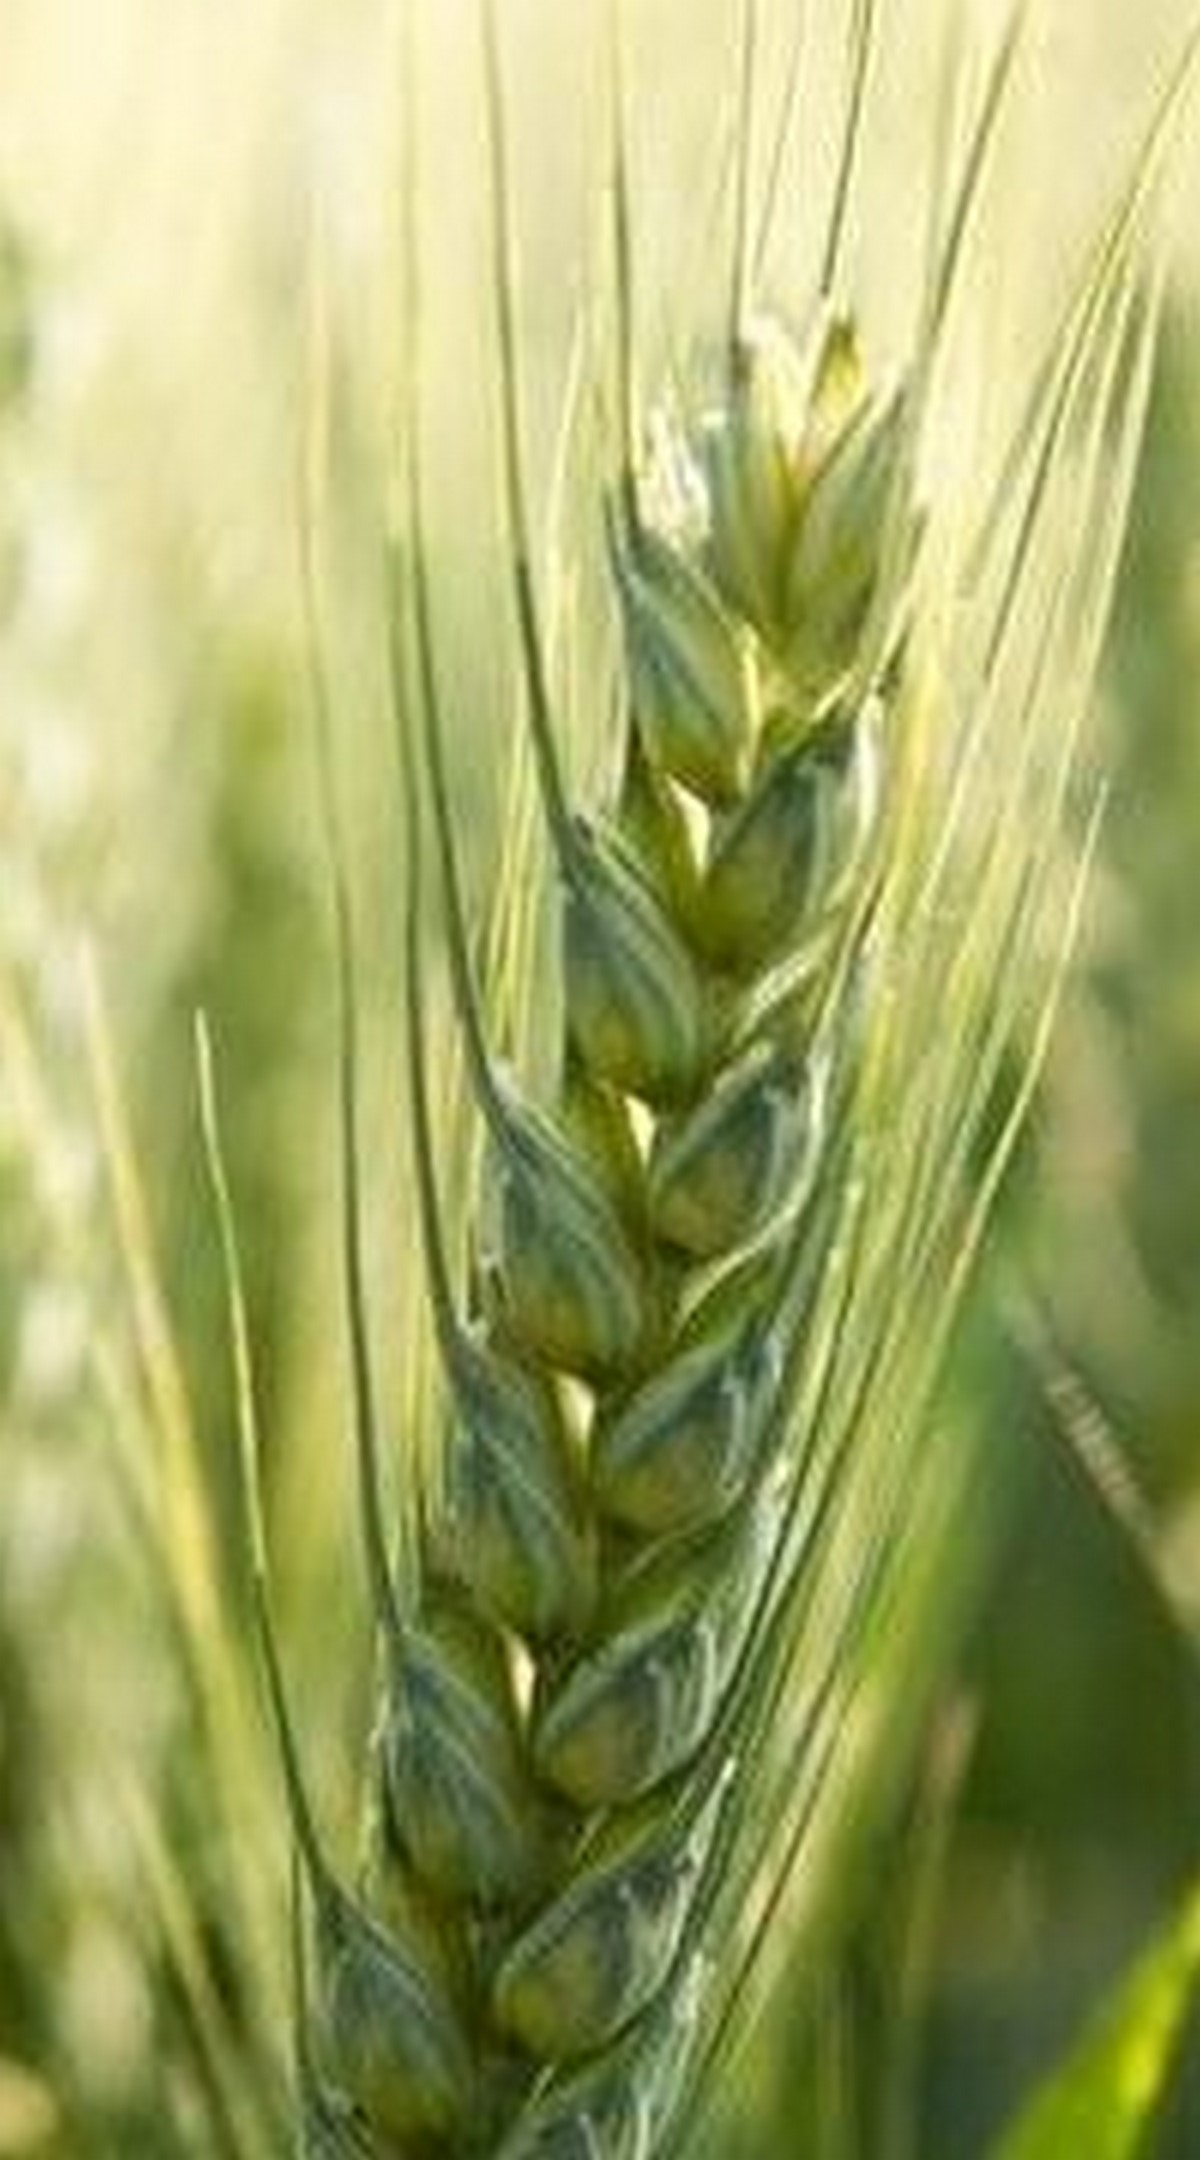Healthy Wheat: (279, 294, 999, 2088)
